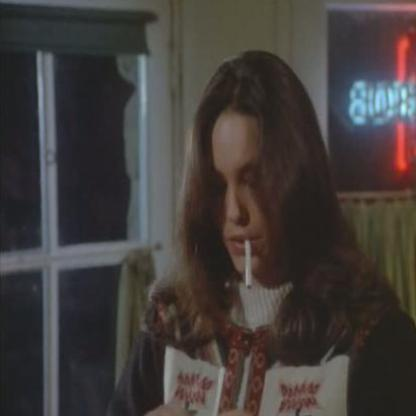cigarette: (244, 237, 254, 290)
person: (153, 47, 405, 416)
